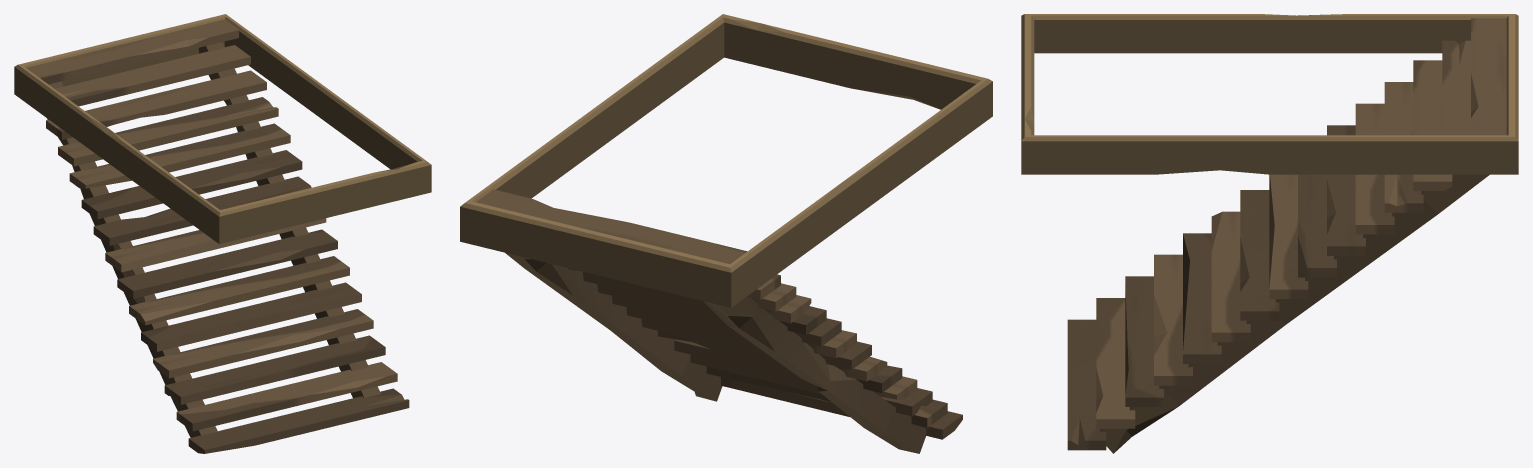
File: SM_Veh_Ship_Stairs_01.fbx
3 views of the same model, side by side, from view 1: azimuth 30°, elevation 25°; view 2: azimuth 150°, elevation 25°; view 3: azimuth 270°, elevation 25° (orthographic). The views are drawn at different scales.
Visible parts, largest first — view 1: SM_Veh_Ship_Stairs_01; view 2: SM_Veh_Ship_Stairs_01; view 3: SM_Veh_Ship_Stairs_01.
Boxes of the visible parts, x1,y1,x2,y2 form: SM_Veh_Ship_Stairs_01: (14,14,431,453); SM_Veh_Ship_Stairs_01: (460,14,992,453); SM_Veh_Ship_Stairs_01: (1021,14,1518,453).
Bounding box in the file's own units: 259 × 314 × 433.
